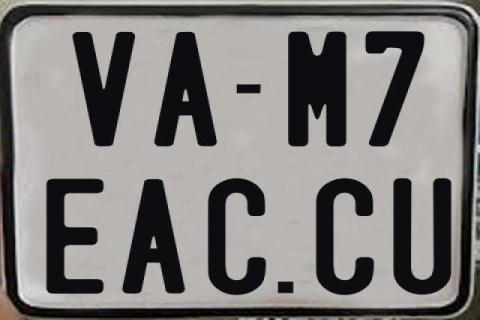0: (364, 30, 423, 148)
A: (154, 30, 219, 148), (122, 177, 184, 293)
C: (208, 177, 267, 299), (313, 176, 371, 298)
E: (44, 178, 107, 294)
M: (286, 31, 348, 149)
U: (392, 178, 456, 294)
V: (69, 30, 133, 148)
